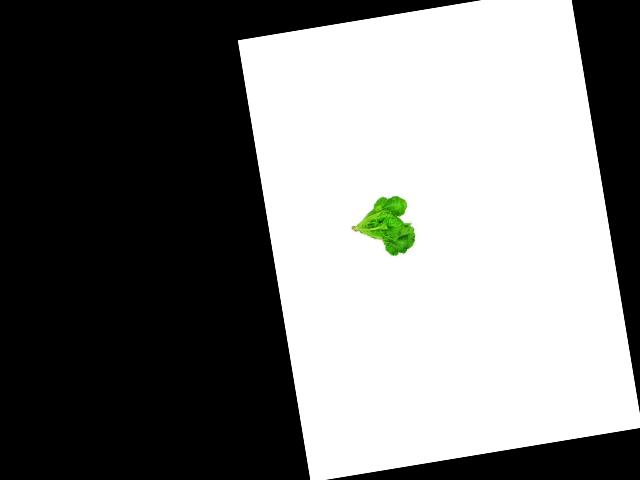lettuce: (345, 190, 421, 265)
